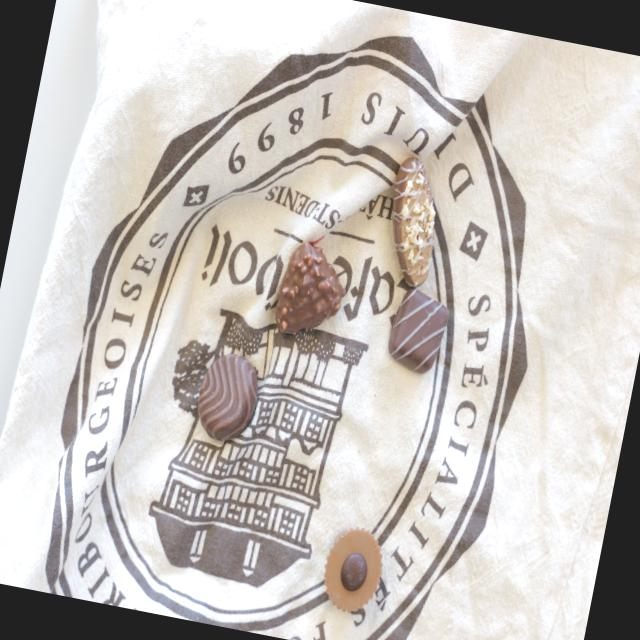Amandina: (376, 155, 448, 292)
Noblesse: (318, 522, 388, 616)
Noir_authentique: (190, 350, 264, 444)
Stracciatella: (383, 285, 453, 377)
Triangolo: (270, 240, 350, 342)
